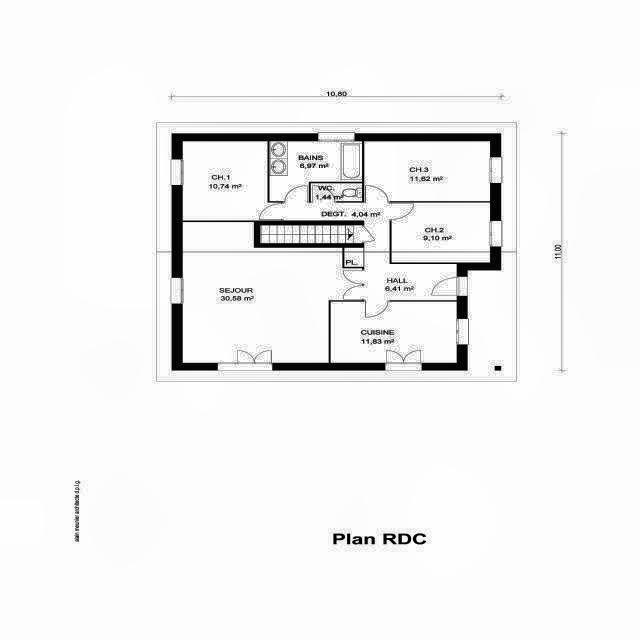room: (183, 222, 362, 363), (283, 202, 457, 301), (183, 141, 282, 221), (331, 301, 456, 363), (365, 141, 490, 201), (392, 203, 490, 262), (269, 141, 362, 201), (260, 226, 362, 243), (311, 183, 362, 201)
